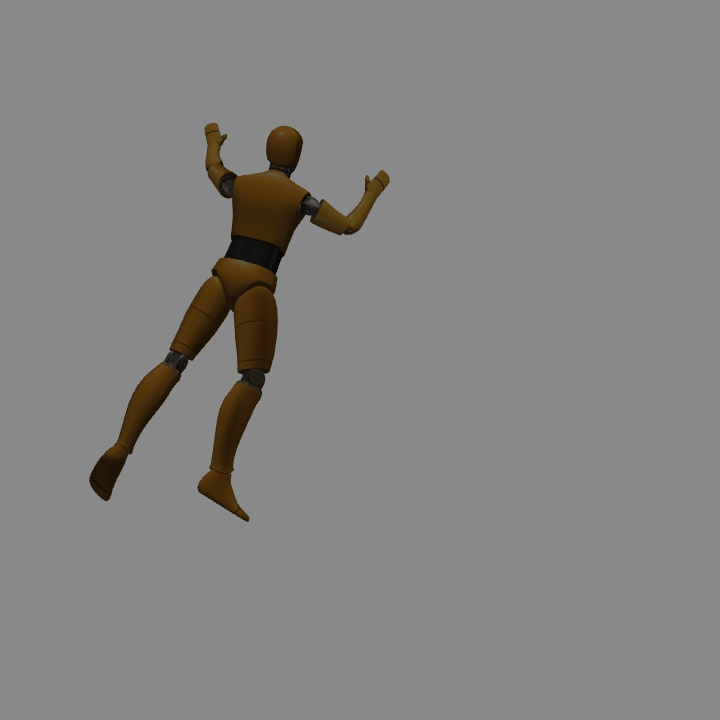victim: (227, 121, 301, 513)
